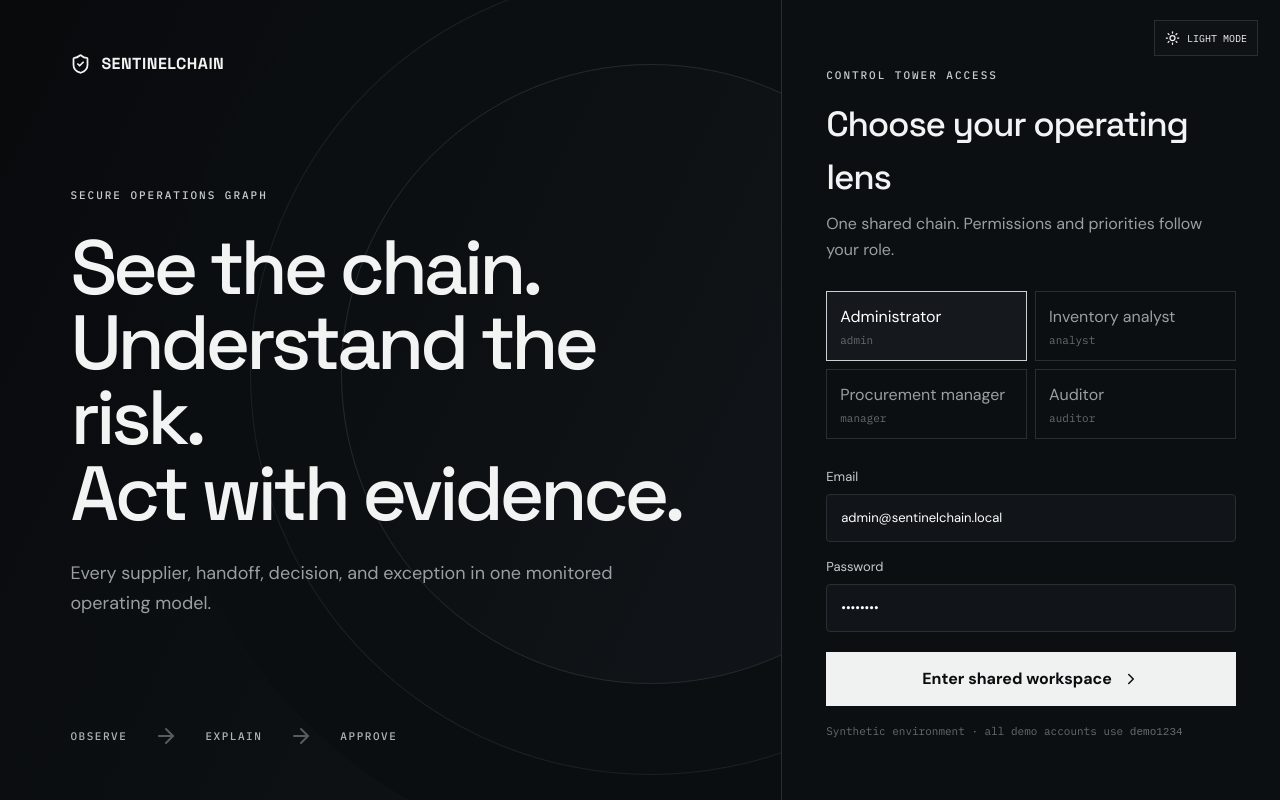
Test: SentinelChain application › hides administration navigation from non-admin roles
Click the button "Enter shared workspace": (1031,679) 826,652 -> 1236,706
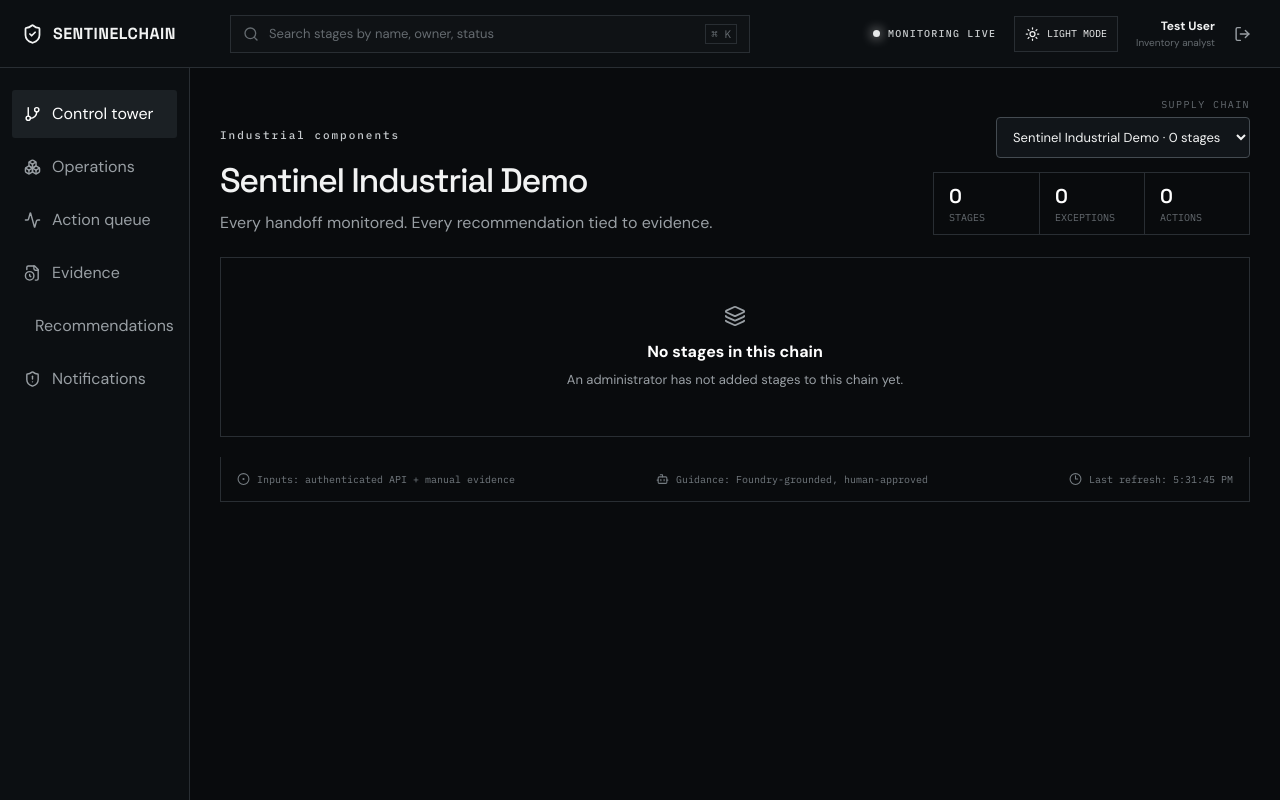
expect the text "Inventory analyst" is shown: met, box 1136,35 -> 1215,50
expect the heading "Sentinel Industrial Demo" is shown: met, box 220,159 -> 587,202
expect the button "Action queue" is shown: met, box 12,196 -> 177,244
